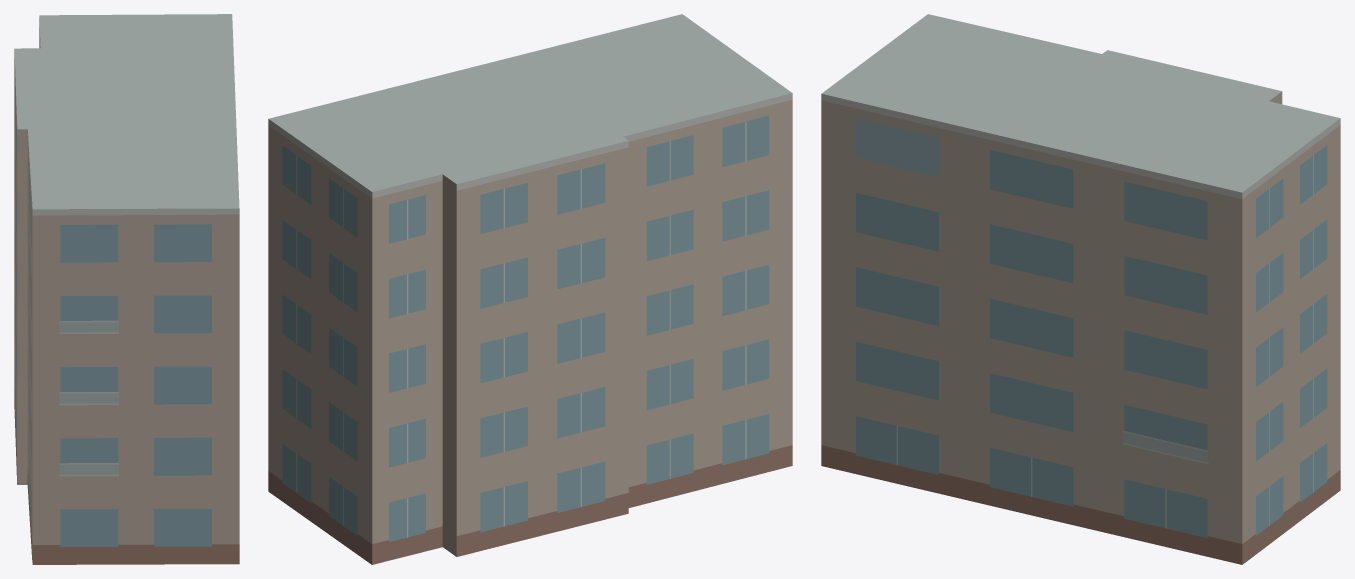
Rendered from survey-upis-32963501.glb.
The picture shows the model from 3 angles, left to right: view 1: azimuth 30°, elevation 25°; view 2: azimuth 150°, elevation 25°; view 3: azimuth 270°, elevation 25°; orthographic projection. The views are drawn at different scales.
Visible parts, largest first — view 1: survey-upis-32963501.tmp; view 2: survey-upis-32963501.tmp; view 3: survey-upis-32963501.tmp.
Part boxes in pixels (x1,y1,x2,y2): survey-upis-32963501.tmp: (14, 14, 239, 564); survey-upis-32963501.tmp: (268, 14, 792, 564); survey-upis-32963501.tmp: (821, 14, 1340, 564).
Bounding box in the file's own units: 14.32 × 13.9 × 17.58.
